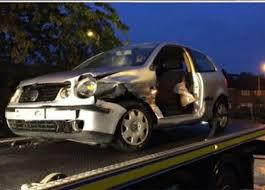fender-dent: (103, 63, 154, 90)
front-bumper-dent: (63, 97, 140, 135)
